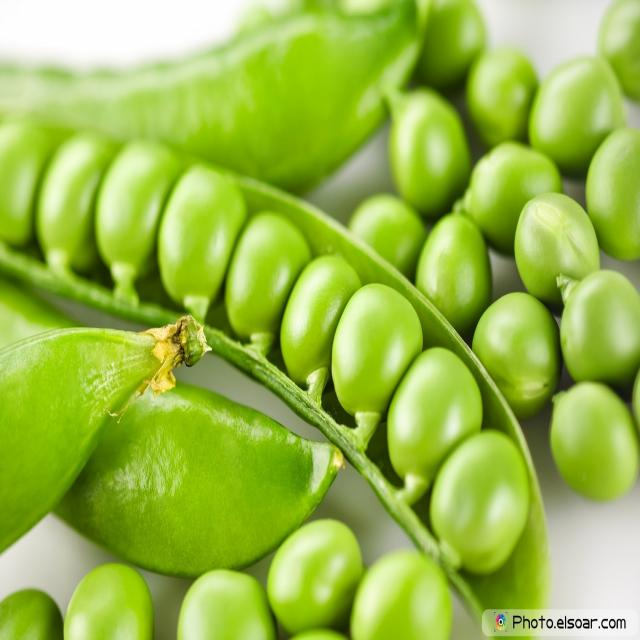pea: (431, 54, 640, 577), (291, 241, 521, 640), (168, 159, 286, 317)
